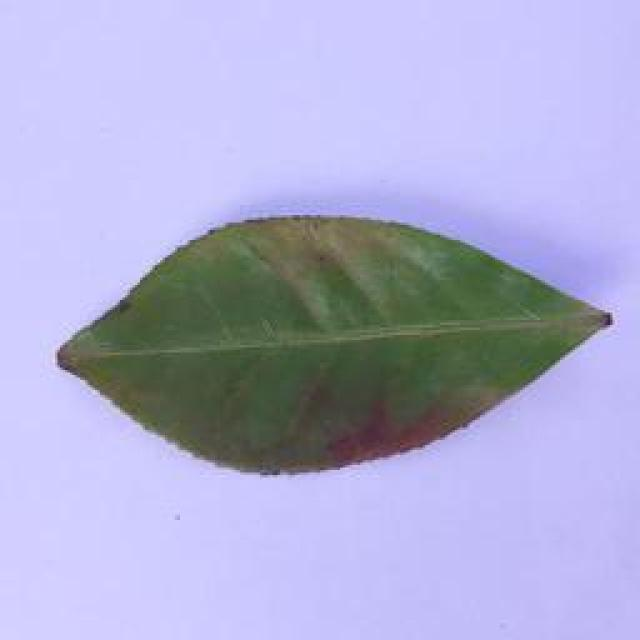Red Leaf Spot: (41, 204, 621, 478)
